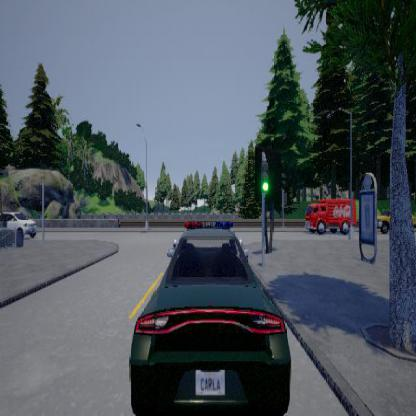traffic_light_green: (260, 153, 268, 198)
vehicle: (128, 220, 291, 415), (304, 198, 356, 237), (376, 208, 416, 234), (0, 211, 37, 237)
